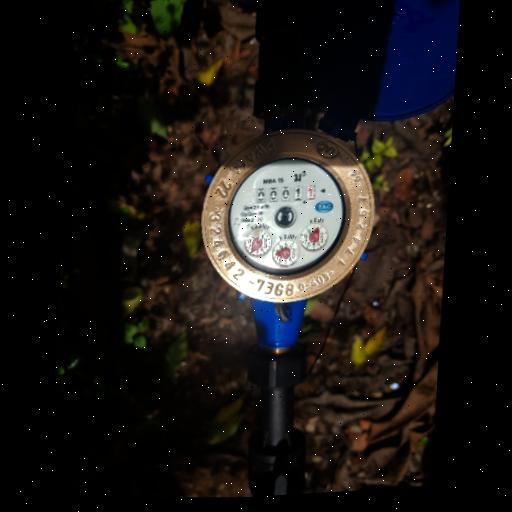0: (269, 187, 278, 202), (281, 186, 290, 201), (257, 189, 266, 203)
1: (293, 185, 302, 201), (306, 185, 315, 200)
border_water_meter_number: (254, 180, 318, 207)
